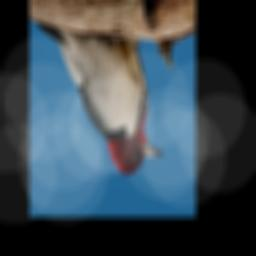Woodpecker: (35, 22, 163, 174)
